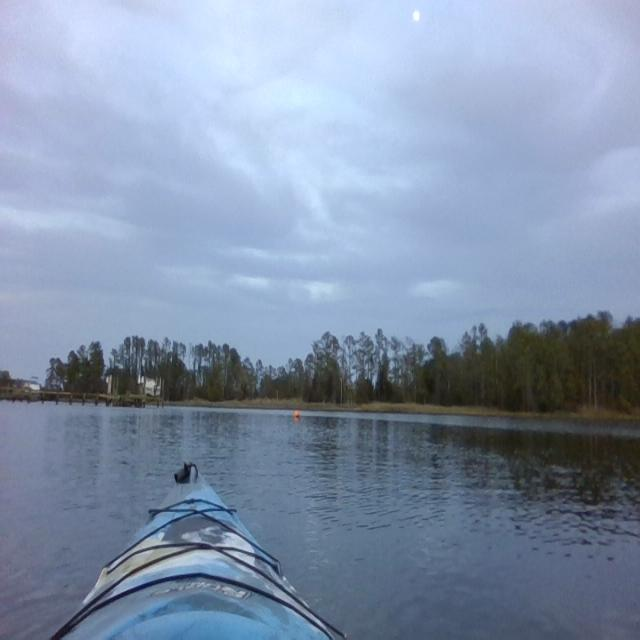Buoy: (294, 406, 302, 424)
